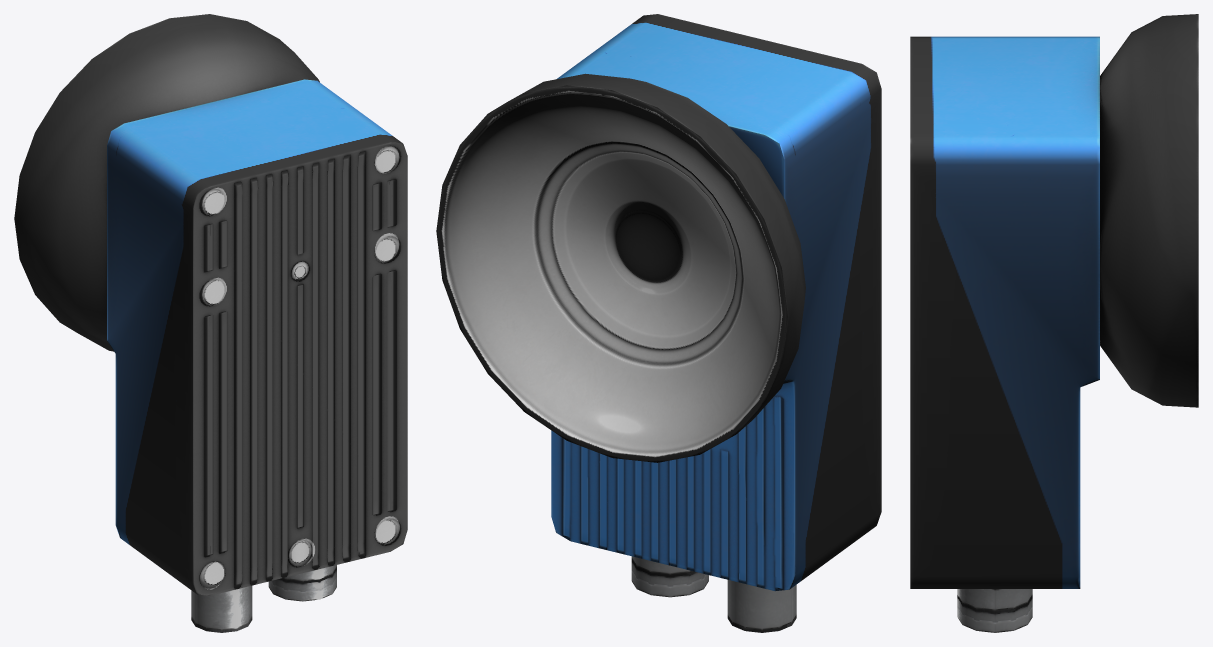
File: camera.dae
3 renders of one model, left to right at view 1: azimuth 30°, elevation 25°; view 2: azimuth 150°, elevation 25°; view 3: azimuth 270°, elevation 25°, orthographic. The views are drawn at different scales.
Visible parts, largest first — view 1: _dVisionCamera; view 2: _dVisionCamera; view 3: _dVisionCamera.
Part boxes in pixels (bbox=[...]): _dVisionCamera: bbox=[14, 14, 407, 632]; _dVisionCamera: bbox=[436, 14, 881, 632]; _dVisionCamera: bbox=[910, 14, 1198, 632].
Size of the model in its own units: 79.38 by 57.86 by 128.
